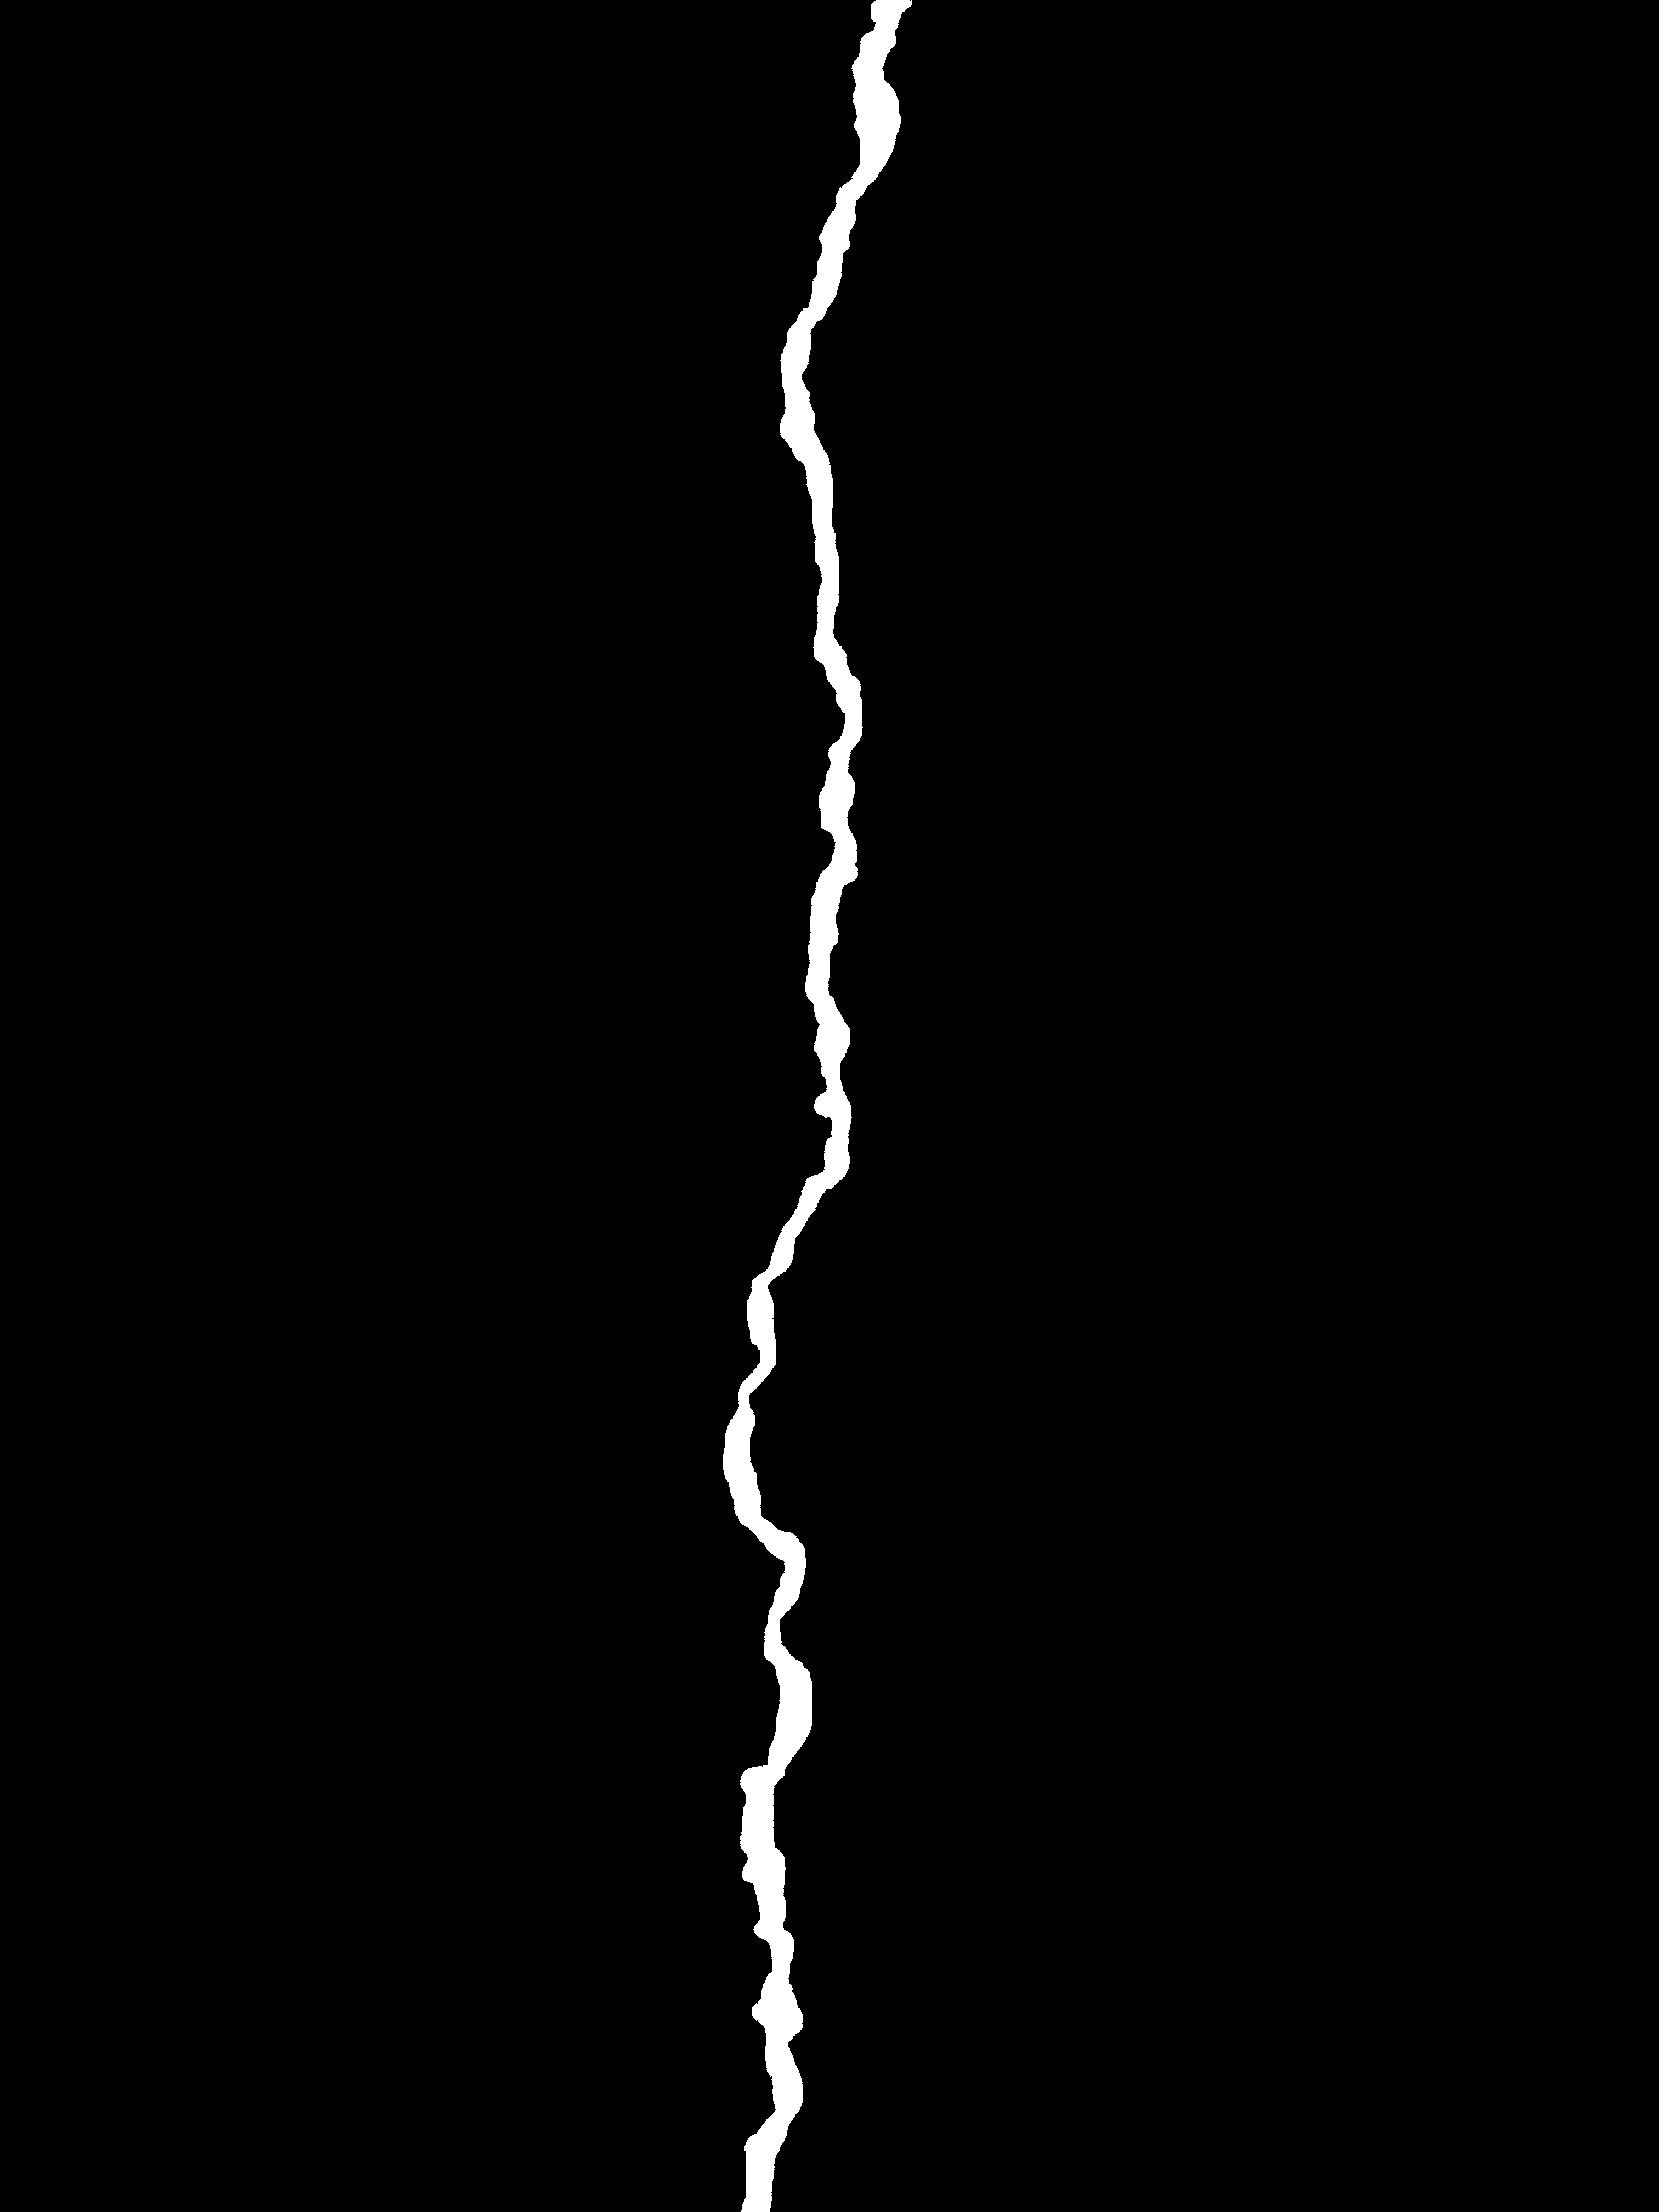Crack: (711, 0, 931, 2212)
